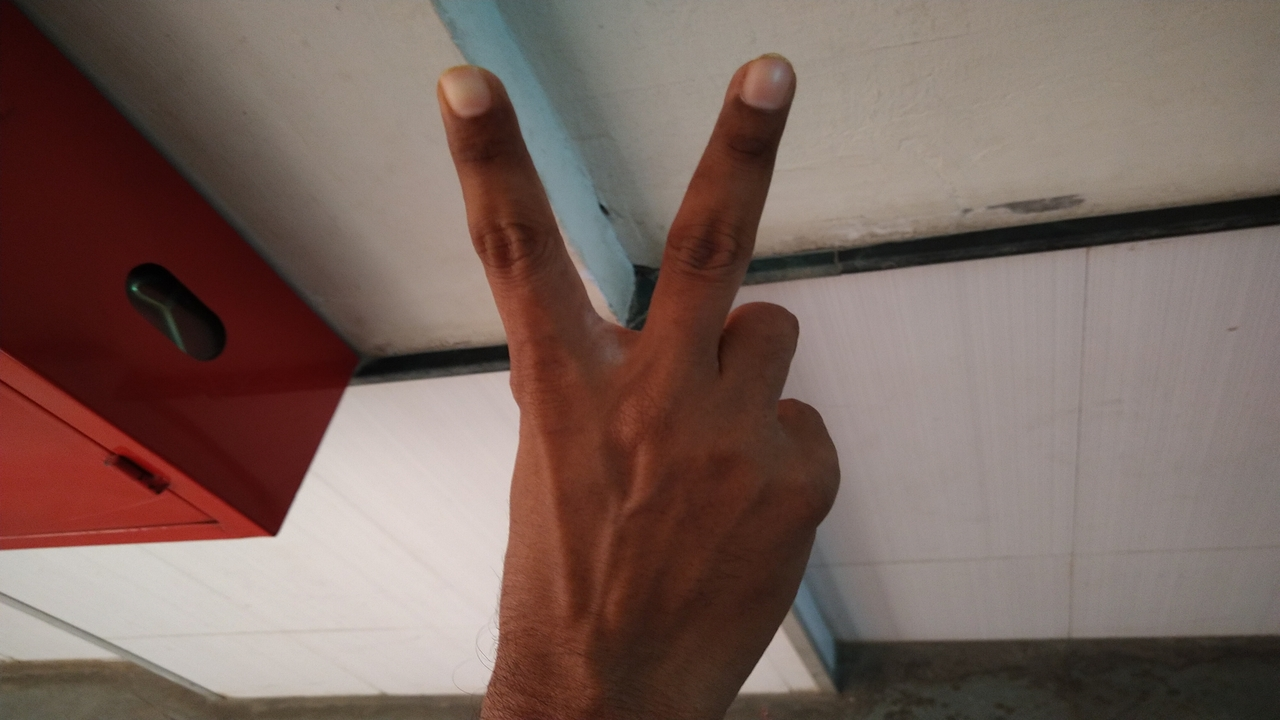fingertip: (424, 60, 506, 126), (728, 52, 804, 116)
